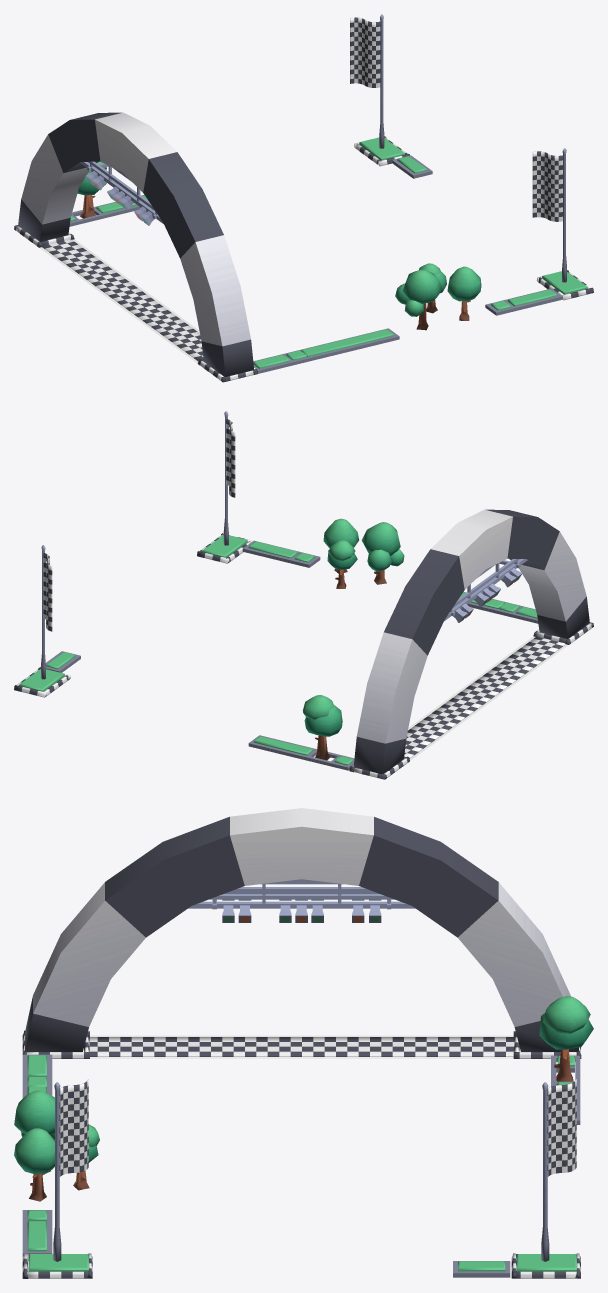
File: start.glb
The picture shows the model from 3 angles, top to bottom: view 1: azimuth 30°, elevation 25°; view 2: azimuth 150°, elevation 25°; view 3: azimuth 270°, elevation 25°; orthographic projection. The views are drawn at different scales.
Visible parts, largest first — view 1: Start_merge; view 2: Start_merge; view 3: Start_merge.
Boxes of the visible parts, x1,y1,x2,y2 form: Start_merge: (14,14,593,382); Start_merge: (14,411,593,779); Start_merge: (14,808,593,1278).
Size of the model in its own units: 17.55 by 7.76 by 17.64.
Materials: 2 (2 with a texture image).
